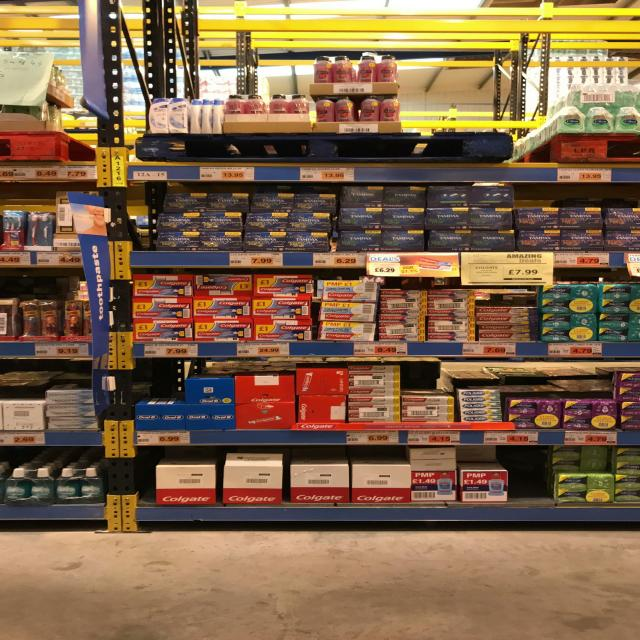void: (398, 58, 525, 131), (508, 187, 637, 210), (510, 454, 548, 501)
